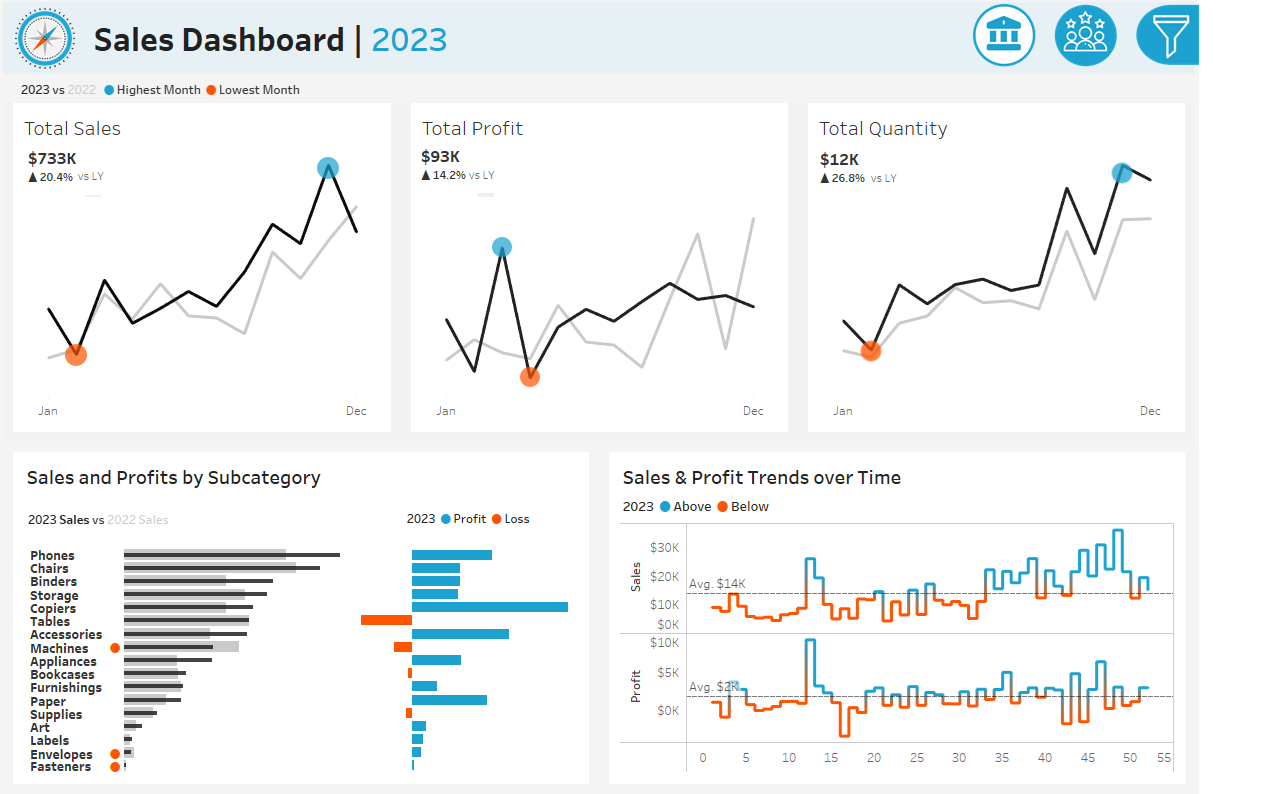

The page's visual inventory and layout, read from the dashboard file:
{"tool":"tableau","page":{"name":"Sales","canvas":[1200,800],"ordinal":1},"visuals":[{"type":"dashboard-object","box":[965,1,81,72]},{"type":"dashboard-object","box":[1046,1,81,72]},{"type":"image","param":"C:/Users/SHIVARAMAKRISHNAN/OneDrive - University at Buffalo/Fall 23/Projects/Sal","box":[4,4,84,72]},{"type":"text","box":[88,4,718,72]},{"type":"blank","box":[983,10,202,91]},{"type":"worksheet","title":"Legend KPI","mark":"Automatic","box":[4,76,1192,29]},{"type":"text","box":[983,101,202,48]},{"type":"worksheet","title":"KPI Sales","mark":"Automatic","rows":["Calculation_1205838845179666436"],"cols":["Order Date"],"box":[4,105,398,339]},{"type":"worksheet","title":"KPI Profit","mark":"Automatic","rows":["Calculation_1205838846159663118"],"cols":["Order Date"],"box":[402,105,397,339]},{"type":"worksheet","title":"KPI Quantity","mark":"Automatic","rows":["Min/Max Sales (copy)_1205838846153990156"],"cols":["Order Date"],"box":[799,105,397,339]},{"type":"worksheet","title":"KPI profit numbers","mark":"Automatic","box":[418,143,113,56]},{"type":"worksheet","title":"KPI Sales numbers","mark":"Automatic","box":[25,145,115,54]},{"type":"worksheet","title":"KPI Quantity numbers","mark":"Automatic","box":[817,146,94,53]},{"type":"parameter","param":"[Parameters].[Parameter 1]","box":[983,149,202,52]},{"type":"text","box":[467,156,108,42]},{"type":"text","box":[76,157,108,42]},{"type":"text","box":[869,159,108,42]},{"type":"blank","box":[983,201,202,68]},{"type":"text","box":[983,269,202,29]},{"type":"filter","title":"KPI Sales","param":"[federated.1cn60yb0esvvd115iq74l0pdmx02].[none:Category:nk]","box":[983,298,202,52]},{"type":"filter","title":"KPI Sales","param":"[federated.1cn60yb0esvvd115iq74l0pdmx02].[none:Sub-Category:nk]","box":[983,350,202,52]},{"type":"text","box":[983,402,202,29]},{"type":"filter","title":"KPI Sales","param":"[federated.1cn60yb0esvvd115iq74l0pdmx02].[none:Region:nk]","box":[983,431,202,52]},{"type":"text","box":[21,461,562,34]},{"type":"text","box":[617,461,562,34]},{"type":"filter","title":"KPI Sales","param":"[federated.1cn60yb0esvvd115iq74l0pdmx02].[none:State:nk]","box":[983,483,202,52]},{"type":"worksheet","title":"Legend Subcategory charts","mark":"Automatic","box":[21,495,380,51]},{"type":"text","box":[401,495,182,51]},{"type":"text","box":[617,495,562,26]},{"type":"worksheet","title":"Weekly Trends","mark":"Automatic","rows":["Calculation_1205838845161607168","Calculation_1205838846152577033"],"cols":["Order Date"],"box":[617,521,562,258]},{"type":"filter","title":"KPI Sales","param":"[federated.1cn60yb0esvvd115iq74l0pdmx02].[none:City:nk]","box":[983,535,202,52]},{"type":"worksheet","title":"Subcategory","mark":"Bar","rows":["Sub-Category","Calculation_1205838846486974487"],"cols":["CY Sales (copy)_1205838845162381313","Calculation_1205838845161607168","Calculation_1205838846152577033"],"box":[21,546,562,233]}]}

Visuals, with their boxes on the page's 1200x800 design canvas (x1, y1, x2, y2). These are canvas units, not pixel positions in the 1272x794 screenshot, which may show the page scaled, cropped or inside an application window:
dashboard-object: {"left": 965, "top": 1, "right": 1046, "bottom": 73}
dashboard-object: {"left": 1046, "top": 1, "right": 1127, "bottom": 73}
image: {"left": 4, "top": 4, "right": 88, "bottom": 76}
text: {"left": 88, "top": 4, "right": 806, "bottom": 76}
blank: {"left": 983, "top": 10, "right": 1185, "bottom": 101}
"Legend KPI" worksheet: {"left": 4, "top": 76, "right": 1196, "bottom": 105}
text: {"left": 983, "top": 101, "right": 1185, "bottom": 149}
"KPI Sales" worksheet: {"left": 4, "top": 105, "right": 402, "bottom": 444}
"KPI Profit" worksheet: {"left": 402, "top": 105, "right": 799, "bottom": 444}
"KPI Quantity" worksheet: {"left": 799, "top": 105, "right": 1196, "bottom": 444}
"KPI profit numbers" worksheet: {"left": 418, "top": 143, "right": 531, "bottom": 199}
"KPI Sales numbers" worksheet: {"left": 25, "top": 145, "right": 140, "bottom": 199}
"KPI Quantity numbers" worksheet: {"left": 817, "top": 146, "right": 911, "bottom": 199}
parameter: {"left": 983, "top": 149, "right": 1185, "bottom": 201}
text: {"left": 467, "top": 156, "right": 575, "bottom": 198}
text: {"left": 76, "top": 157, "right": 184, "bottom": 199}
text: {"left": 869, "top": 159, "right": 977, "bottom": 201}
blank: {"left": 983, "top": 201, "right": 1185, "bottom": 269}
text: {"left": 983, "top": 269, "right": 1185, "bottom": 298}
"KPI Sales" filter: {"left": 983, "top": 298, "right": 1185, "bottom": 350}
"KPI Sales" filter: {"left": 983, "top": 350, "right": 1185, "bottom": 402}
text: {"left": 983, "top": 402, "right": 1185, "bottom": 431}
"KPI Sales" filter: {"left": 983, "top": 431, "right": 1185, "bottom": 483}
text: {"left": 21, "top": 461, "right": 583, "bottom": 495}
text: {"left": 617, "top": 461, "right": 1179, "bottom": 495}
"KPI Sales" filter: {"left": 983, "top": 483, "right": 1185, "bottom": 535}
"Legend Subcategory charts" worksheet: {"left": 21, "top": 495, "right": 401, "bottom": 546}
text: {"left": 401, "top": 495, "right": 583, "bottom": 546}
text: {"left": 617, "top": 495, "right": 1179, "bottom": 521}
"Weekly Trends" worksheet: {"left": 617, "top": 521, "right": 1179, "bottom": 779}
"KPI Sales" filter: {"left": 983, "top": 535, "right": 1185, "bottom": 587}
"Subcategory" worksheet (Bar marks): {"left": 21, "top": 546, "right": 583, "bottom": 779}
